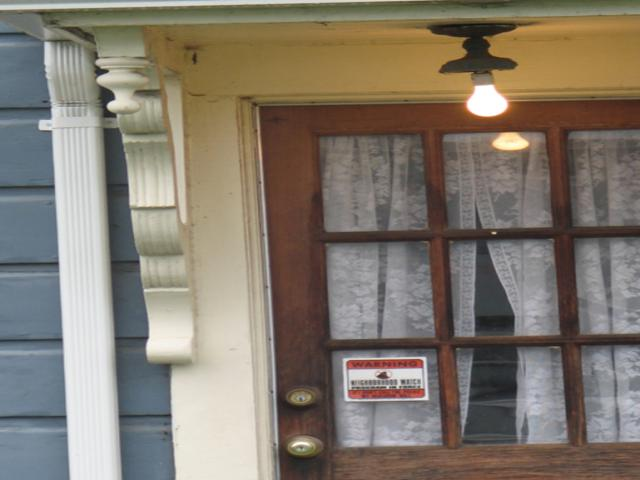Door-handle: (281, 436, 325, 460)
